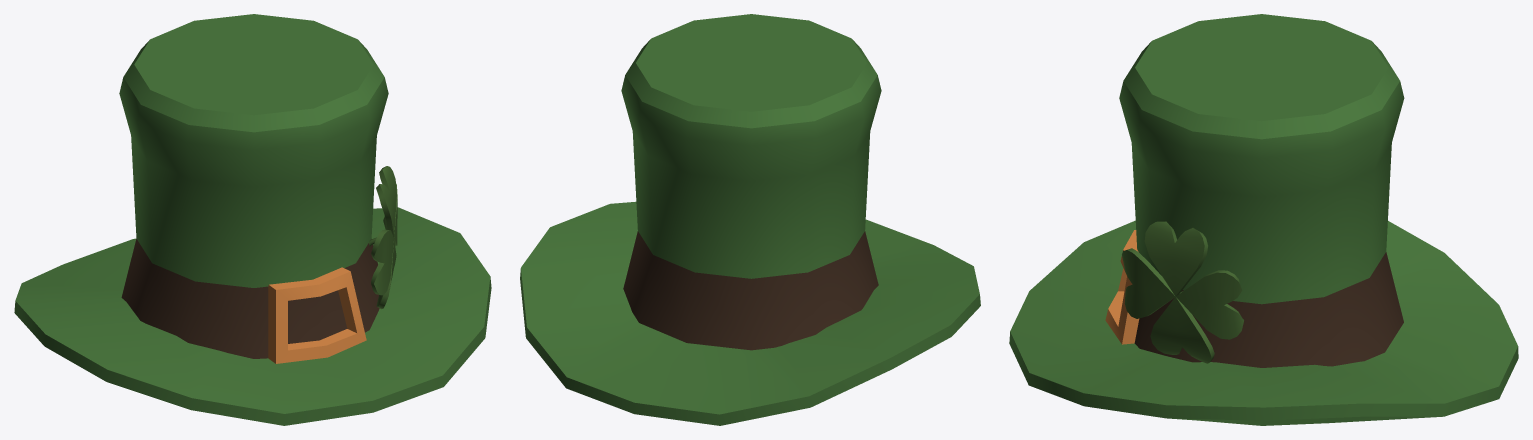
The model's file is LeprechaunHat_01.fbx.
3 views of the same model, side by side, from view 1: azimuth 30°, elevation 25°; view 2: azimuth 150°, elevation 25°; view 3: azimuth 270°, elevation 25° (orthographic). The views are drawn at different scales.
Parts seen in each view (by area): view 1: LeprechaunHat_01; view 2: LeprechaunHat_01; view 3: LeprechaunHat_01.
Boxes of the visible parts, left/top/right/bottom form: LeprechaunHat_01: left=14, top=14, right=491, bottom=425; LeprechaunHat_01: left=520, top=14, right=980, bottom=425; LeprechaunHat_01: left=1009, top=14, right=1518, bottom=425.
Size of the model in its own units: 0.4187 by 0.2803 by 0.4185.
